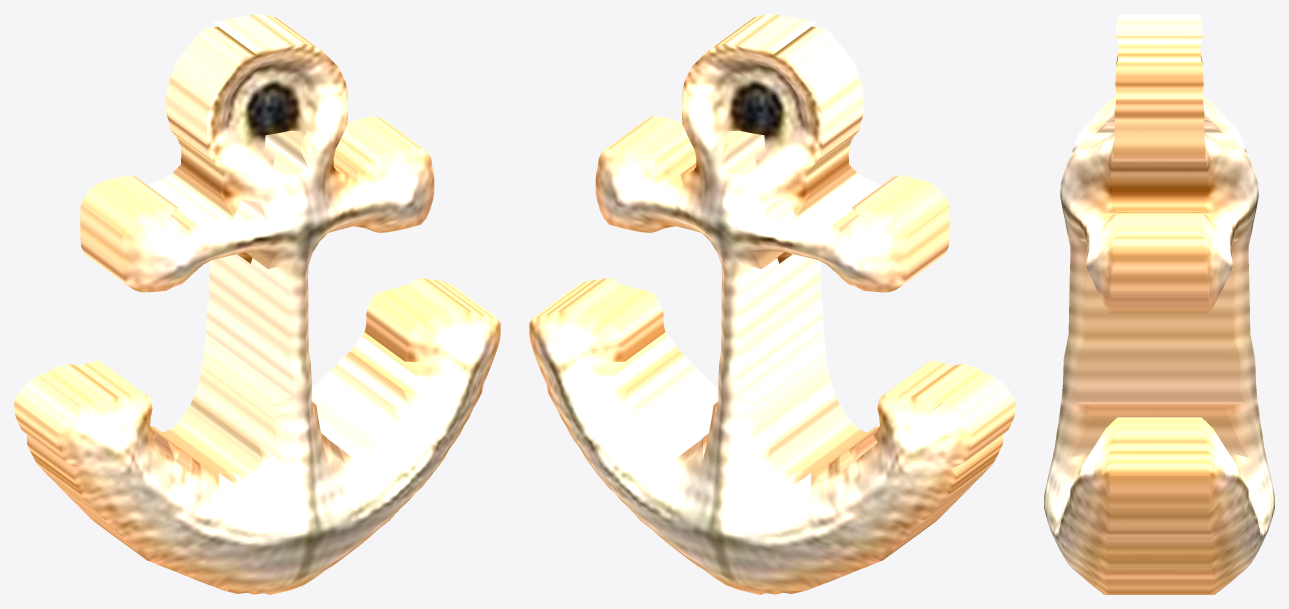
The picture shows the model from 3 angles, left to right: view 1: azimuth 30°, elevation 25°; view 2: azimuth 150°, elevation 25°; view 3: azimuth 270°, elevation 25°; orthographic projection. The views are drawn at different scales.
Bounding box in the file's own units: 1.74 × 2.05 × 0.7651.
1 material, 1 textured.
